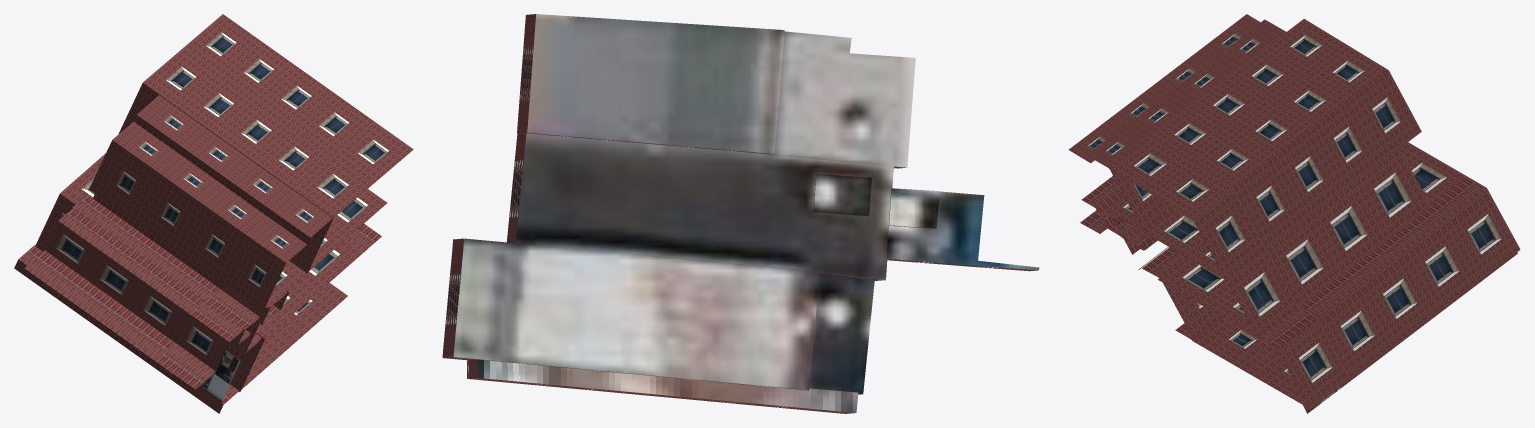
The picture shows the model from 3 angles, left to right: view 1: azimuth 30°, elevation 25°; view 2: azimuth 150°, elevation 25°; view 3: azimuth 270°, elevation 25°; orthographic projection. The views are drawn at different scales.
Bounding box in the file's own units: 27.6 × 21.81 × 27.65.
25 materials, 25 textured.
